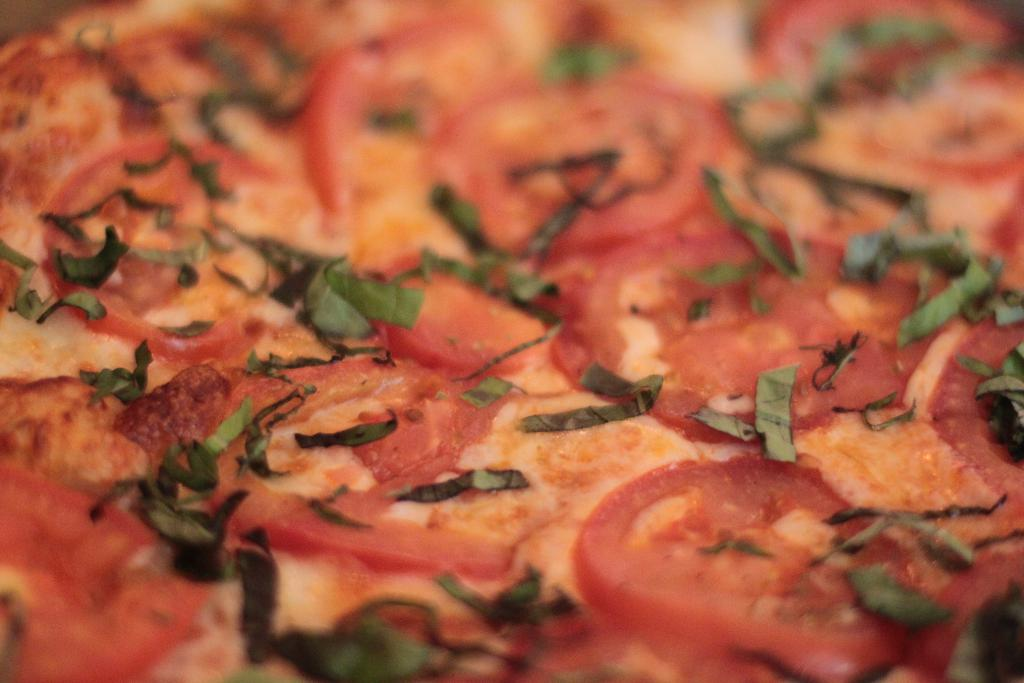Tomato: (0, 0, 1024, 683)
